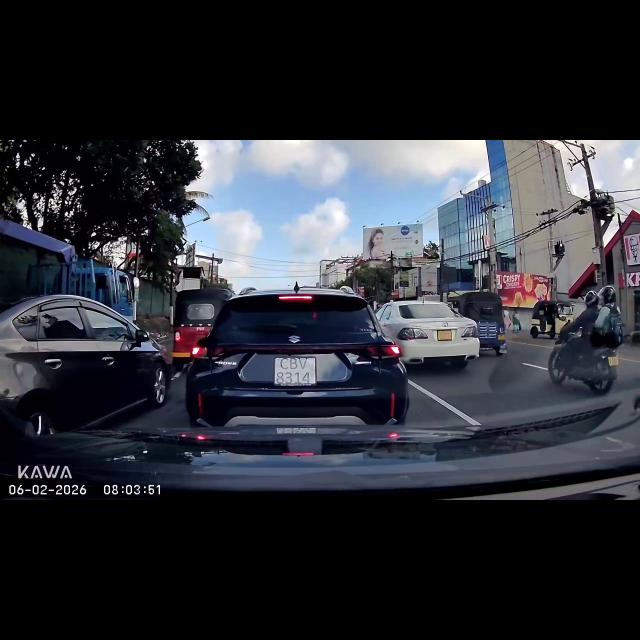car: (225, 302, 382, 420), (31, 309, 153, 409), (388, 302, 467, 352)
helmet: (600, 286, 616, 306), (582, 291, 596, 309)
motorcycle: (559, 339, 613, 377)
number_plate: (264, 351, 320, 389)
person: (576, 299, 598, 343), (603, 304, 623, 346)
three_wheeler: (176, 298, 212, 348), (476, 296, 506, 346)
